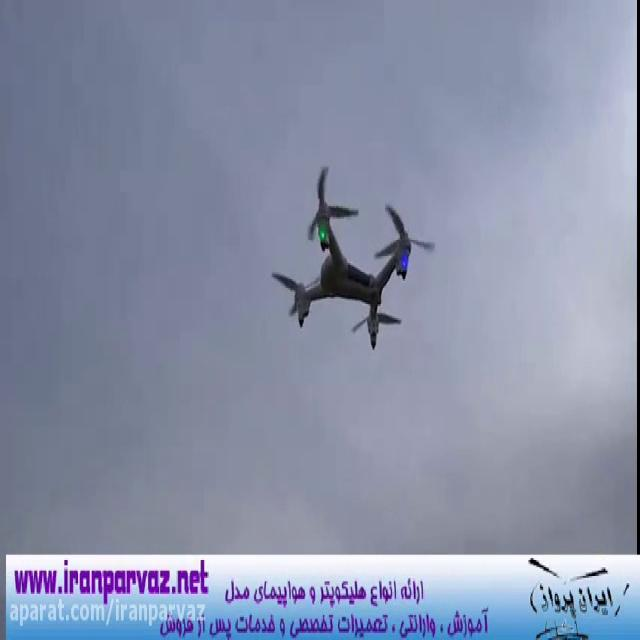drone: (267, 162, 438, 356)
